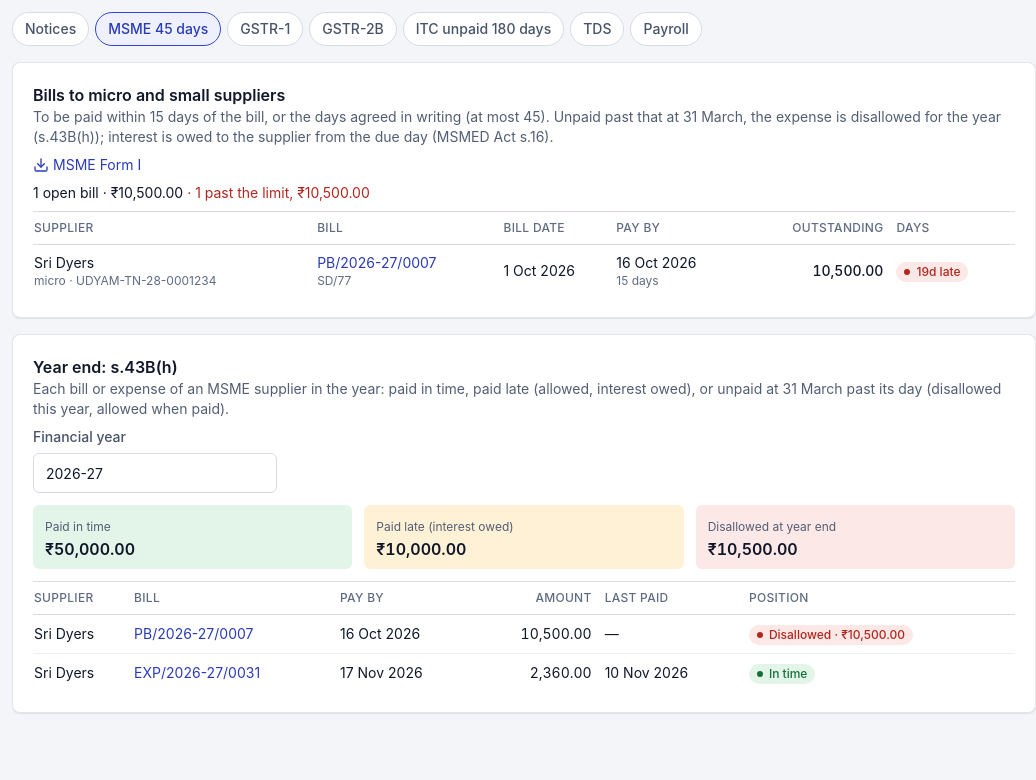
Test case: the statutory tab › shows the GSTR-2B position and the bills the supplier did not report
This screenshot has width=1036, height=780.
Click the button "GSTR-2B" at (353, 29), box x1=309 y1=12 x2=397 y2=46
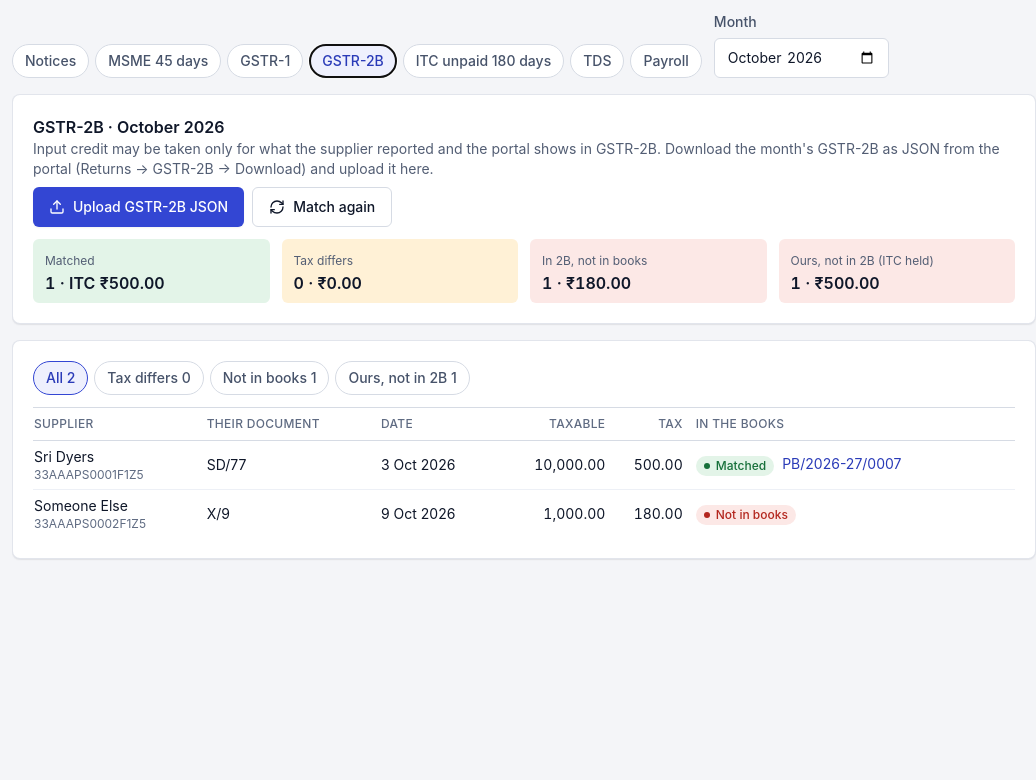
Expected: the text "matched" is shown, x1=716 y1=458 x2=766 y2=474
Expected: the text "not in books" is shown, x1=716 y1=507 x2=788 y2=523
Click the button "Ours, not in 2B 1" at (403, 378), box x1=336 y1=361 x2=470 y2=395
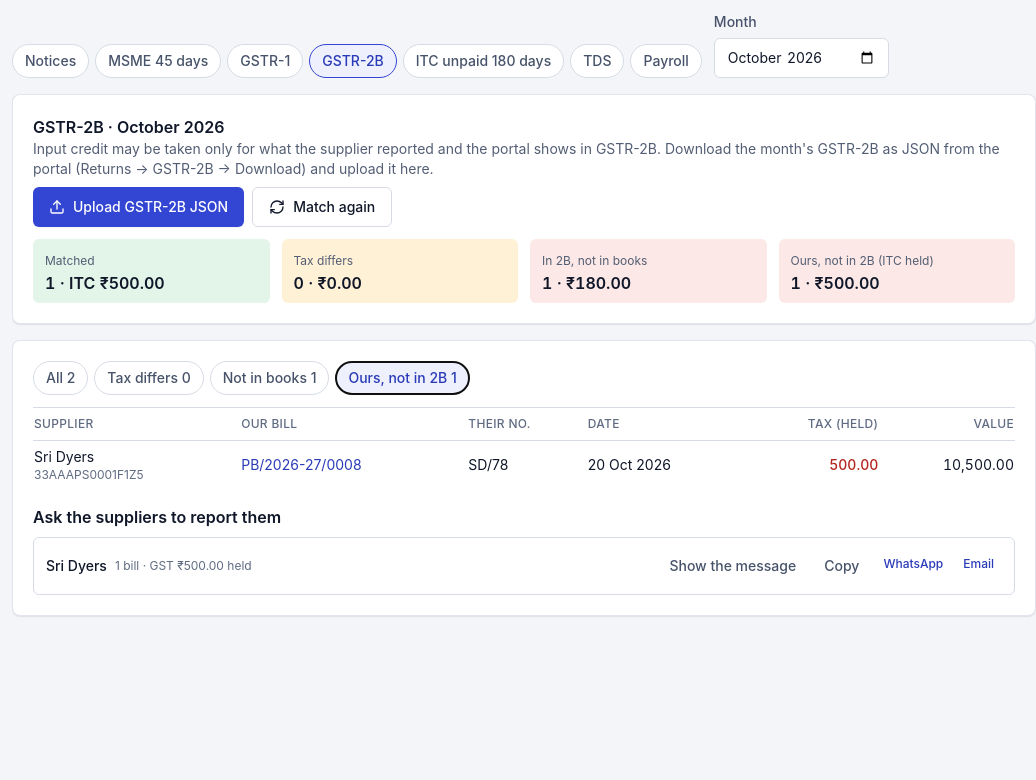
Expected: the link "PB/2026-27/0008" is shown, x1=241 y1=456 x2=362 y2=473
Click the button "Show the message" at (733, 566), box x1=657 y1=550 x2=808 y2=582
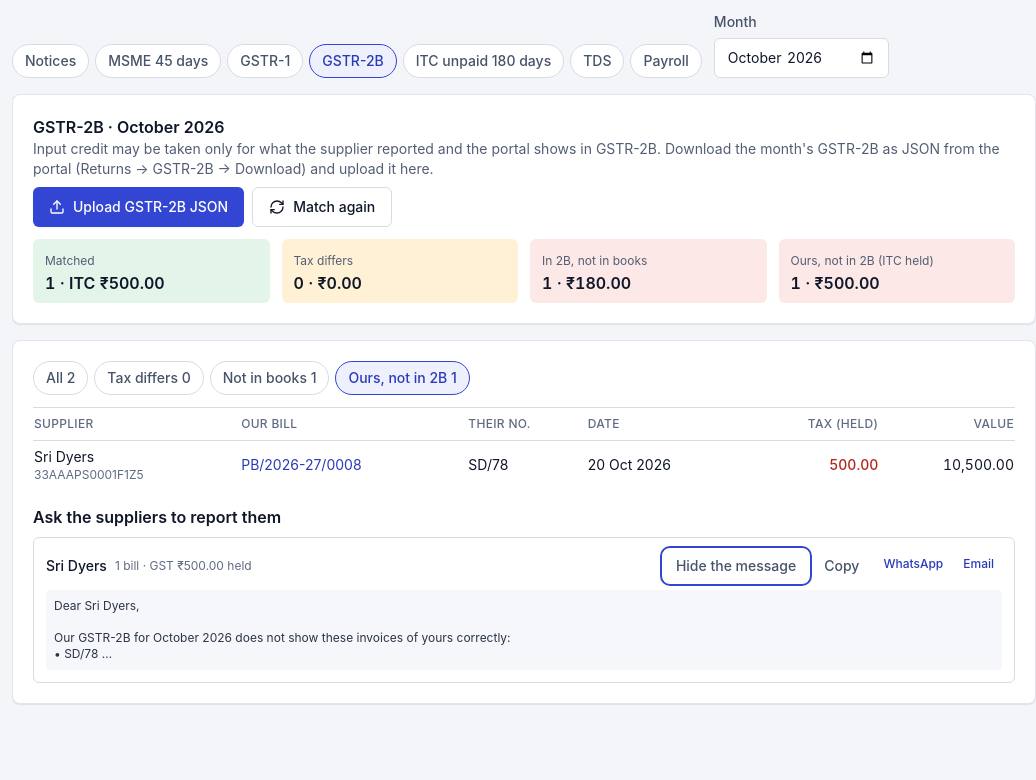
Expected: the element named "Follow up with suppliers" shows "does not show these invoices of yours", x1=54 y1=598 x2=511 y2=661
